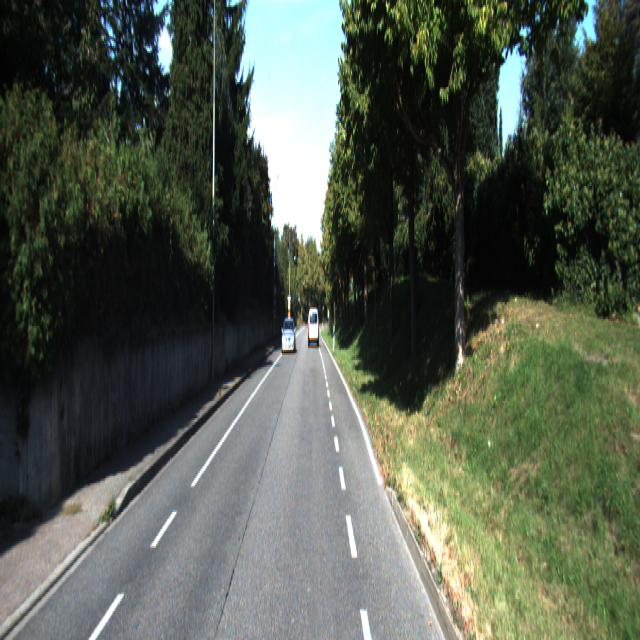Car: (307, 308, 320, 349), (281, 317, 295, 354)
